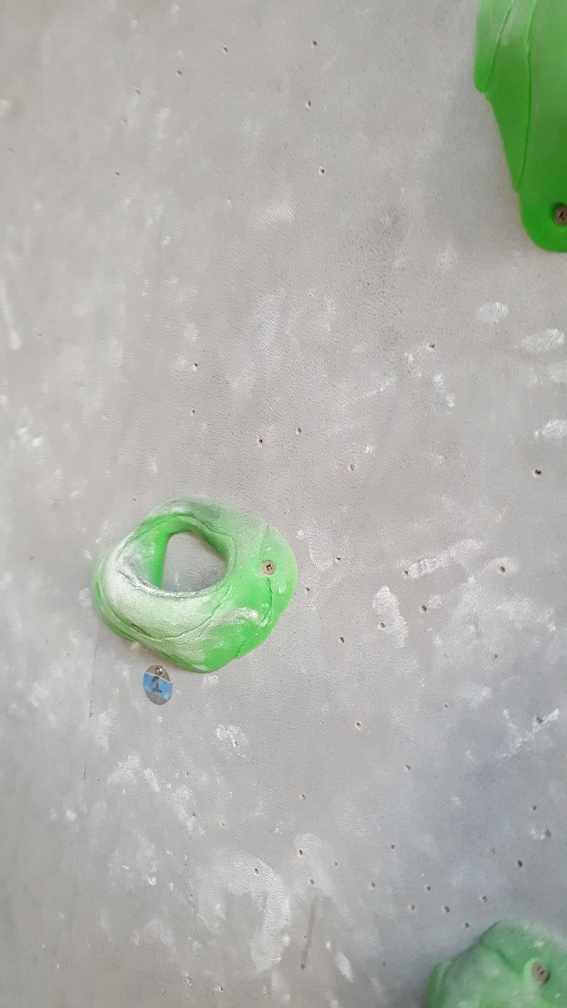Hand Start: (140, 659, 176, 707)
Pocket: (93, 492, 301, 676)
